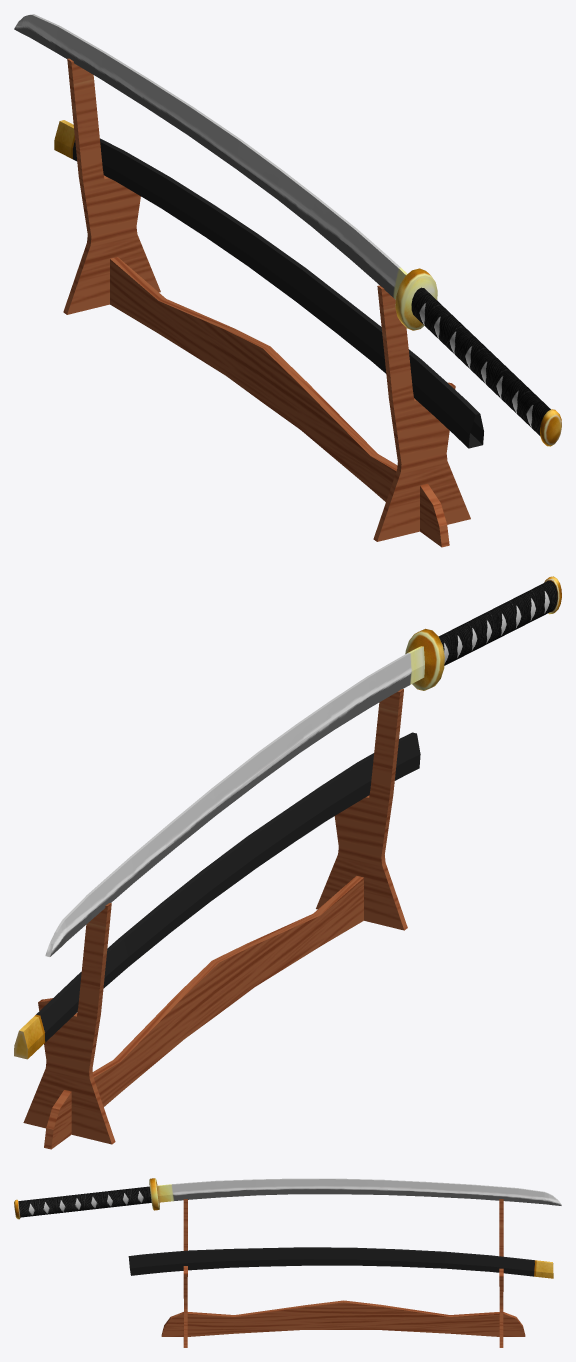
Rendered from Soporte1.fbx.
3 views of the same model, one above another, from view 1: azimuth 30°, elevation 25°; view 2: azimuth 150°, elevation 25°; view 3: azimuth 270°, elevation 25° (orthographic). The views are drawn at different scales.
Visible parts, largest first — view 1: Cube.001, Katana.001, Katana.002; view 2: Cube.001, Katana.001, Katana.002; view 3: Cube.001, Katana.001, Katana.002.
Boxes of the visible parts, bbox=[...] form: Cube.001: bbox=[63, 58, 470, 547]; Katana.001: bbox=[14, 14, 561, 446]; Katana.002: bbox=[54, 120, 483, 448]; Cube.001: bbox=[23, 689, 407, 1149]; Katana.001: bbox=[45, 576, 561, 956]; Katana.002: bbox=[14, 732, 420, 1059]; Cube.001: bbox=[161, 1199, 525, 1347]; Katana.001: bbox=[14, 1178, 561, 1219]; Katana.002: bbox=[128, 1247, 553, 1278].
Bounding box in the file's own units: 28.31 × 77.45 × 259.
